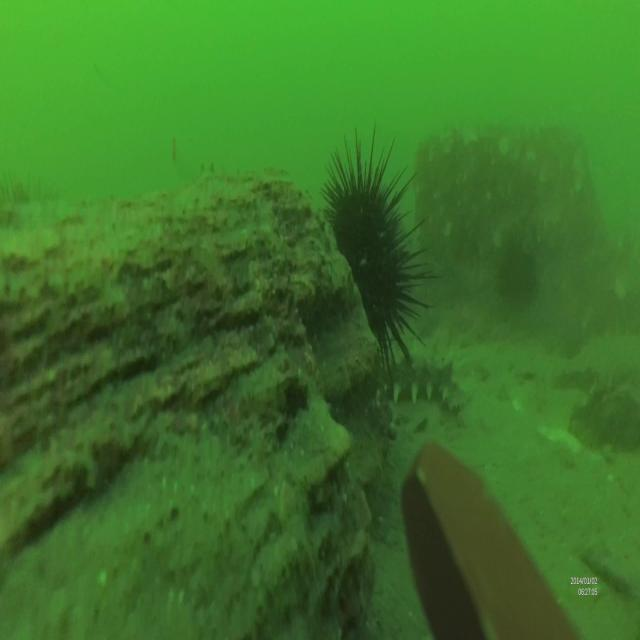echinus: (308, 117, 422, 354)
holothurian: (362, 354, 472, 419)
